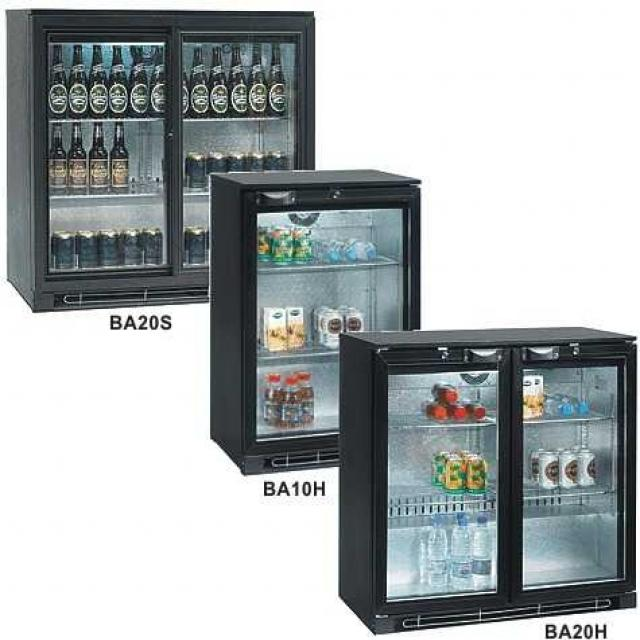refrigerator: (30, 5, 318, 314), (334, 332, 625, 636), (240, 178, 422, 479)
